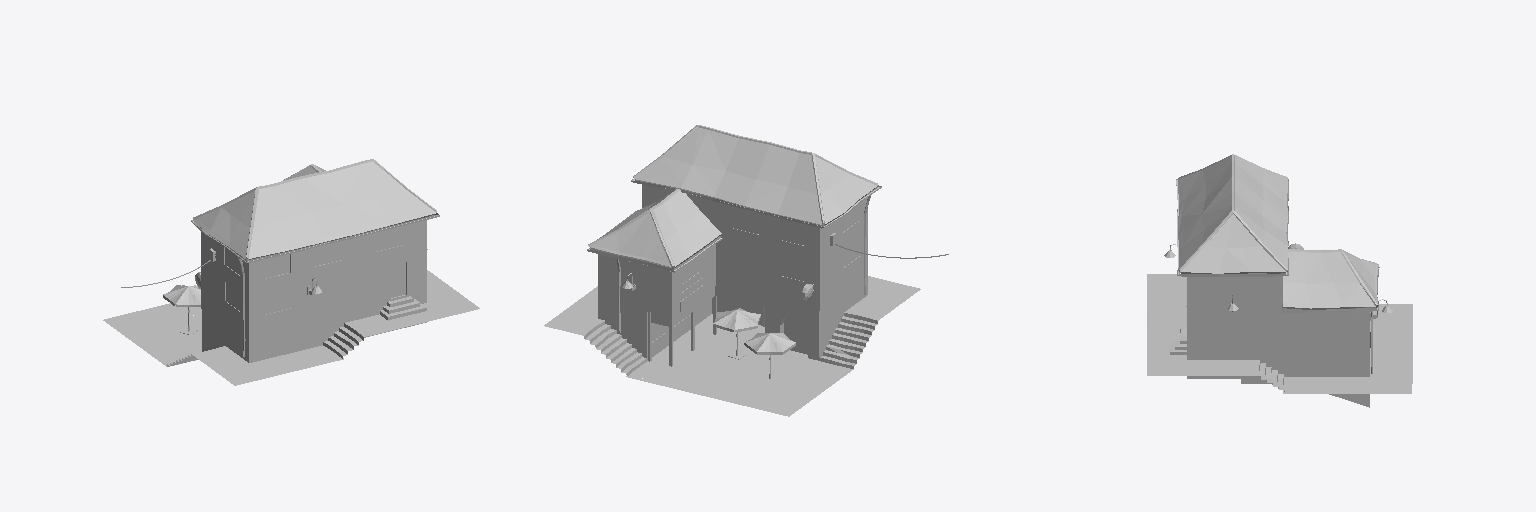
Rendered from Diorama Restaurant (Baked Lighting).obj.
3 renders of one model, left to right at view 1: azimuth 30°, elevation 25°; view 2: azimuth 150°, elevation 25°; view 3: azimuth 270°, elevation 25°, orthographic.
Visible parts, largest first — view 1: Object047, Object049, Object048; view 2: Object049, Object048, Object047; view 3: Object049, Object048, Object047.
Part boxes in pixels (x1,y1,x2,y2): Object047: (121,213,439,366); Object049: (193,161,435,351); Object048: (103,159,479,385); Object049: (588,127,877,366); Object048: (544,125,920,416); Object047: (578,179,948,381); Object049: (1178,154,1378,357); Object048: (1147,161,1412,407); Object047: (1147,179,1411,391).
Bounding box in the file's own units: 1977 × 1085 × 1432.